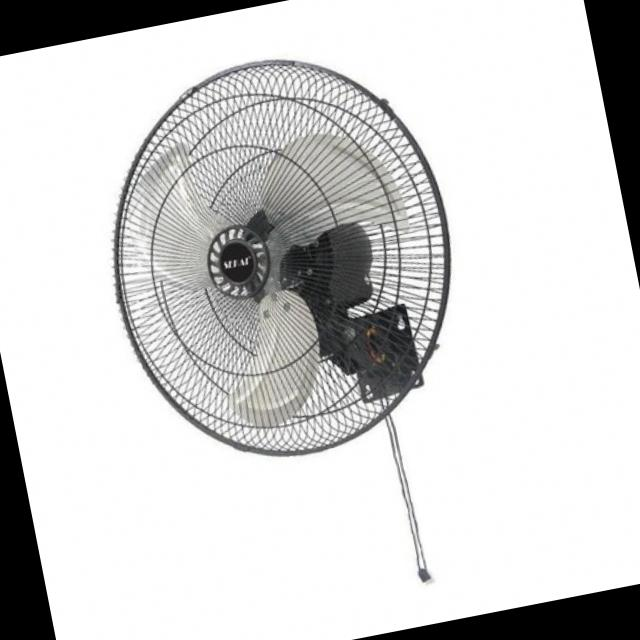fan: (61, 19, 525, 640)
